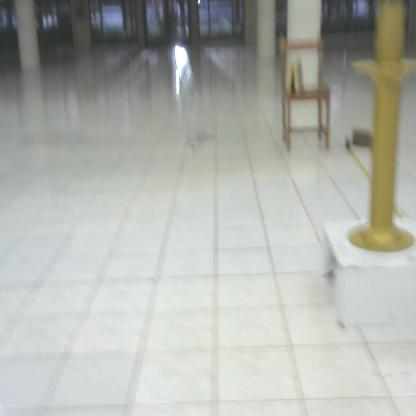pole: (347, 2, 416, 253)
